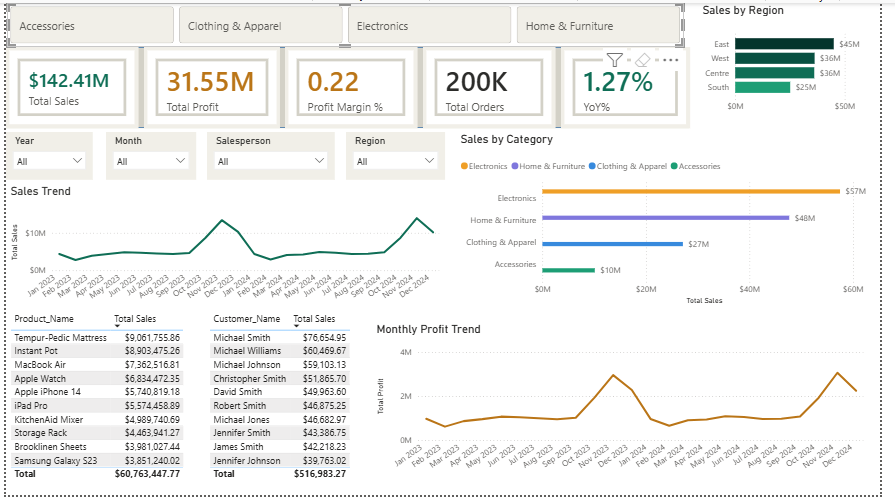

The dashboard page shown, as its layout file describes it:
{"tool":"powerbi","page":{"name":"Page 1","canvas":[1280,720],"ordinal":0},"visuals":[{"type":"group","id":"g1","title":"Group 1","box":[0,64.4,1001,118.5],"z":0},{"type":"shape","box":[0.7,64.4,998.8,118.5],"z":0,"group":"g1"},{"type":"cardVisual","fields":{"Data":["FactSales.Total Sales"]},"box":[0,64.4,193.9,118.5],"z":1000,"group":"g1"},{"type":"lineChart","title":"Sales Trend","fields":{"Category":["DimDate.YearMonth"],"Y":["FactSales.Total Sales"]},"box":[1.5,264.9,638,181.5],"z":1000},{"type":"cardVisual","fields":{"Data":["FactSales.Total Profit"]},"box":[201.4,64.4,199.2,118.5],"z":2000,"group":"g1"},{"type":"clusteredBarChart","title":"Sales by Category","fields":{"Category":["DimProduct.Category"],"Y":["FactSales.Total Sales"],"Series":["DimProduct.Category"]},"box":[660,188.8,620.5,257.6],"z":2000},{"type":"barChart","title":"Sales by Region","fields":{"Category":["DimStore.Region"],"Y":["FactSales.Total Sales"]},"box":[1014.1,0,266.3,169.8],"z":3000},{"type":"cardVisual","fields":{"Data":["FactSales.YoY%"]},"box":[812.4,64.4,188.5,118.5],"z":3000,"group":"g1"},{"type":"cardVisual","fields":{"Data":["FactSales.Total Orders"]},"box":[610.5,64.4,193.9,118.5],"z":4000,"group":"g1"},{"type":"tableEx","fields":{"Values":["FactSales.Product_Name","FactSales.Total Sales"]},"box":[1.5,446.3,263.4,257.6],"z":4000},{"type":"cardVisual","fields":{"Data":["FactSales.Profit Margin %"]},"box":[408.6,64.4,193.9,118.5],"z":5000,"group":"g1"},{"type":"tableEx","fields":{"Values":["DimCustomer.Customer_Name","FactSales.Total Sales"]},"box":[292.7,446.3,216.6,257.6],"z":5000},{"type":"lineChart","title":"Monthly Profit Trend","fields":{"Category":["DimDate.YearMonth"],"Y":["FactSales.Total Profit"]},"box":[537.1,466.8,722.9,237.1],"z":6000},{"type":"slicer","fields":{"Values":["DimSalesperson.Employee"]},"box":[294.1,188.8,187.3,70.2],"z":7000},{"type":"advancedSlicerVisual","fields":{"Values":["FactSales.Category"]},"box":[1.5,0,990.7,64.4],"z":8000},{"type":"slicer","fields":{"Values":["FactSales.Region"]},"box":[497.6,188.8,144.9,70.2],"z":9000},{"type":"actionButton","box":[0,0,100,40],"z":10000},{"type":"slicer","fields":{"Values":["DimDate.Year"]},"box":[0,188.8,127.3,70.2],"z":11000},{"type":"slicer","fields":{"Values":["DimDate.Month"]},"box":[146.3,188.8,131.7,70.2],"z":12000}]}

Visuals, with their boxes in screenshot pixels (x1, y1, x2, y2), scaled from the page's 1280x720 canvas onto the 895x499 screenshot:
"Group 1" group: <box>0,45,700,127</box>
shape: <box>0,45,699,127</box>
cardVisual - FactSales.Total Sales: <box>0,45,136,127</box>
"Sales Trend" lineChart: <box>1,184,447,309</box>
cardVisual - FactSales.Total Profit: <box>141,45,280,127</box>
"Sales by Category" clusteredBarChart: <box>461,131,894,309</box>
"Sales by Region" barChart: <box>709,0,894,118</box>
cardVisual - FactSales.YoY%: <box>568,45,700,127</box>
cardVisual - FactSales.Total Orders: <box>427,45,562,127</box>
tableEx - FactSales.Product_Name x FactSales.Total Sales: <box>1,309,185,488</box>
cardVisual - FactSales.Profit Margin %: <box>286,45,421,127</box>
tableEx - DimCustomer.Customer_Name x FactSales.Total Sales: <box>205,309,356,488</box>
"Monthly Profit Trend" lineChart: <box>376,324,881,488</box>
slicer - DimSalesperson.Employee: <box>206,131,337,180</box>
advancedSlicerVisual - FactSales.Category: <box>1,0,694,45</box>
slicer - FactSales.Region: <box>348,131,449,180</box>
actionButton: <box>0,0,70,28</box>
slicer - DimDate.Year: <box>0,131,89,180</box>
slicer - DimDate.Month: <box>102,131,194,180</box>
